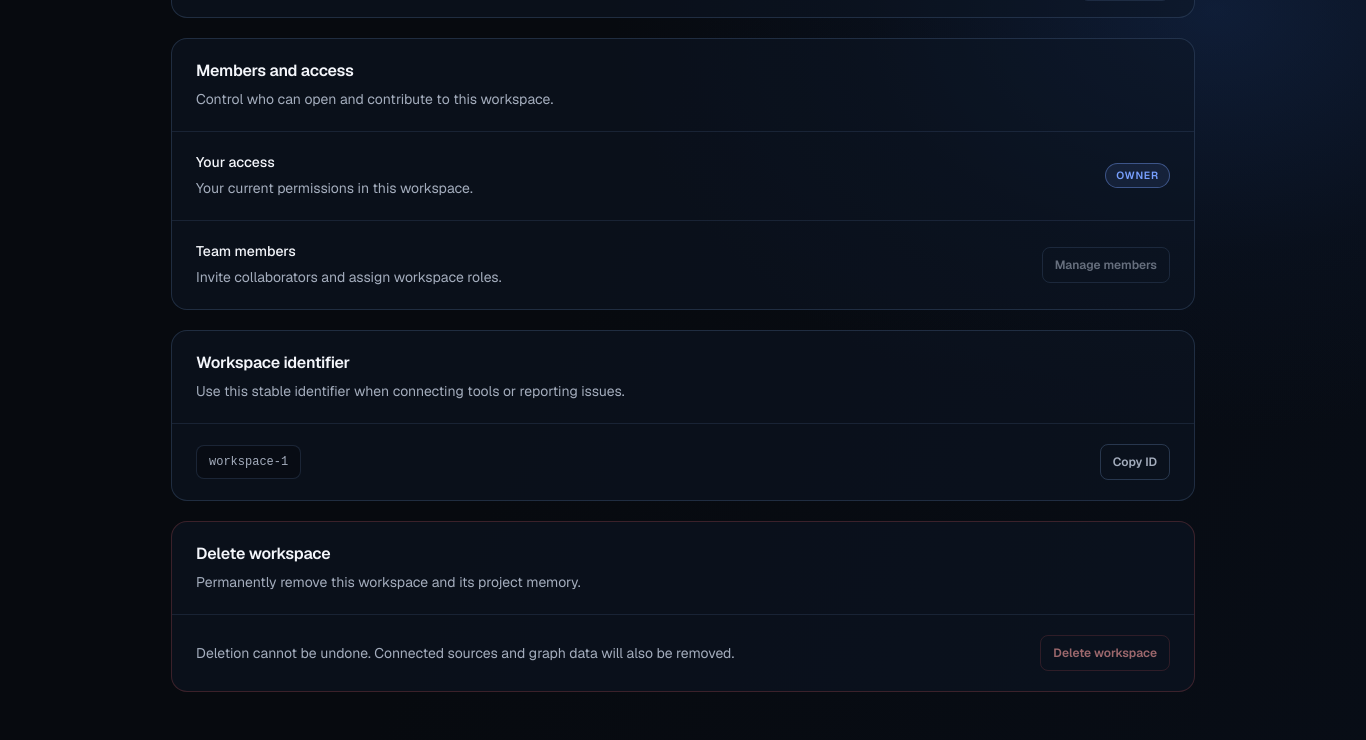
Scenario: WorkspaceSettings › copies the stable workspace identifier
The width and height of the screenshot is (1366, 740).
(page scrolled)
Click the button "Copy ID".
click(1135, 462)  # box [1100, 444, 1170, 480]
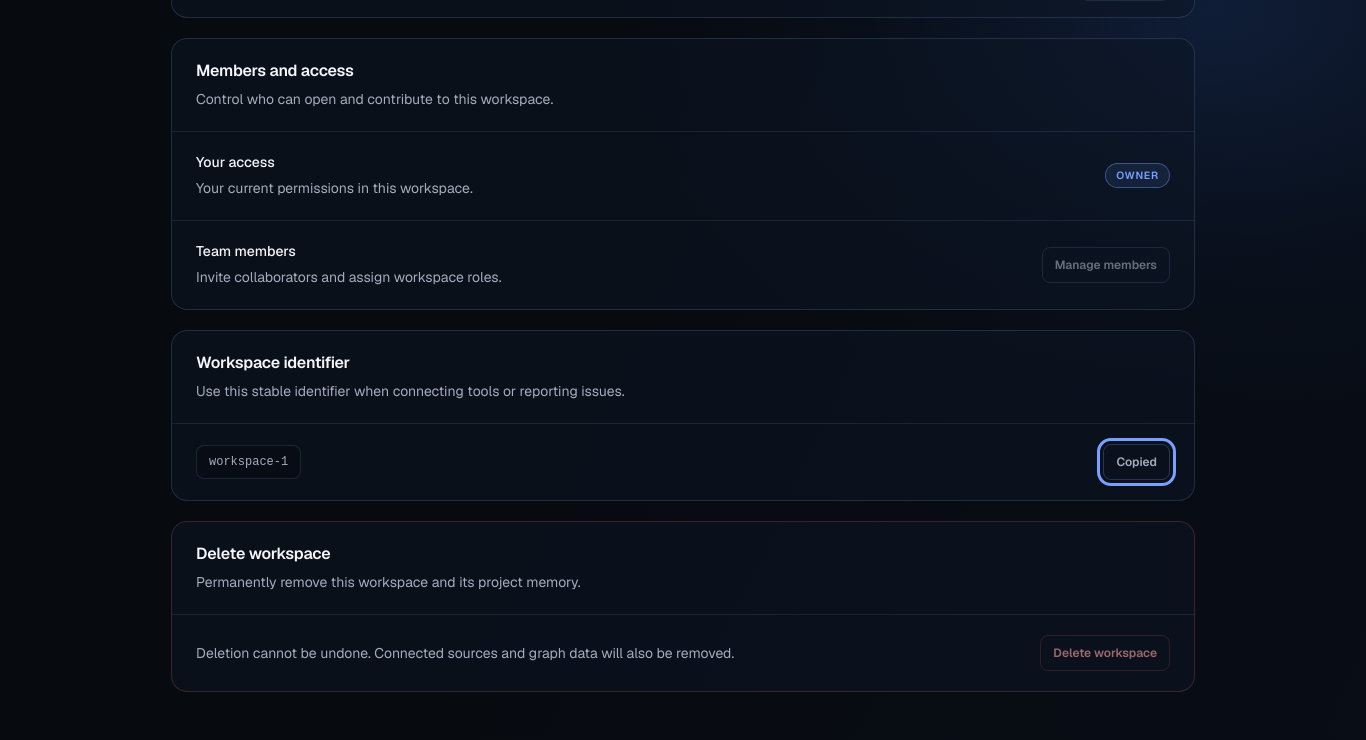
Expected: the button "Copied" is shown, [1103, 444, 1170, 480]
